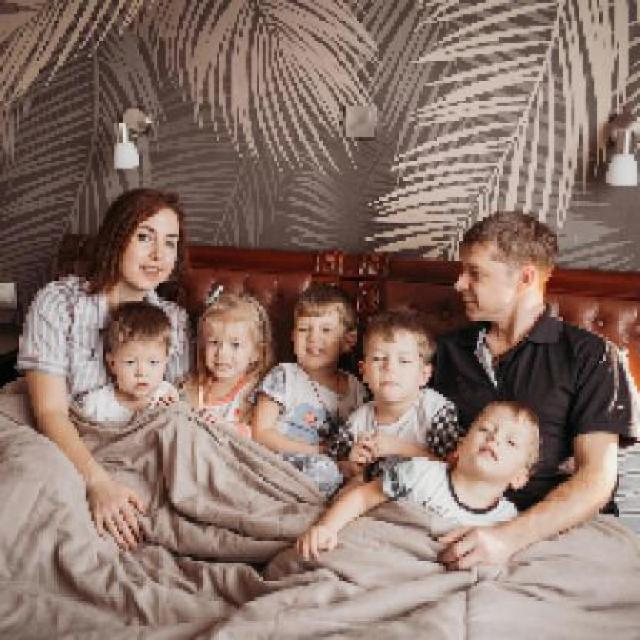child: (294, 396, 546, 562), (327, 302, 464, 478), (250, 287, 367, 453), (183, 292, 280, 434), (69, 300, 180, 423)
